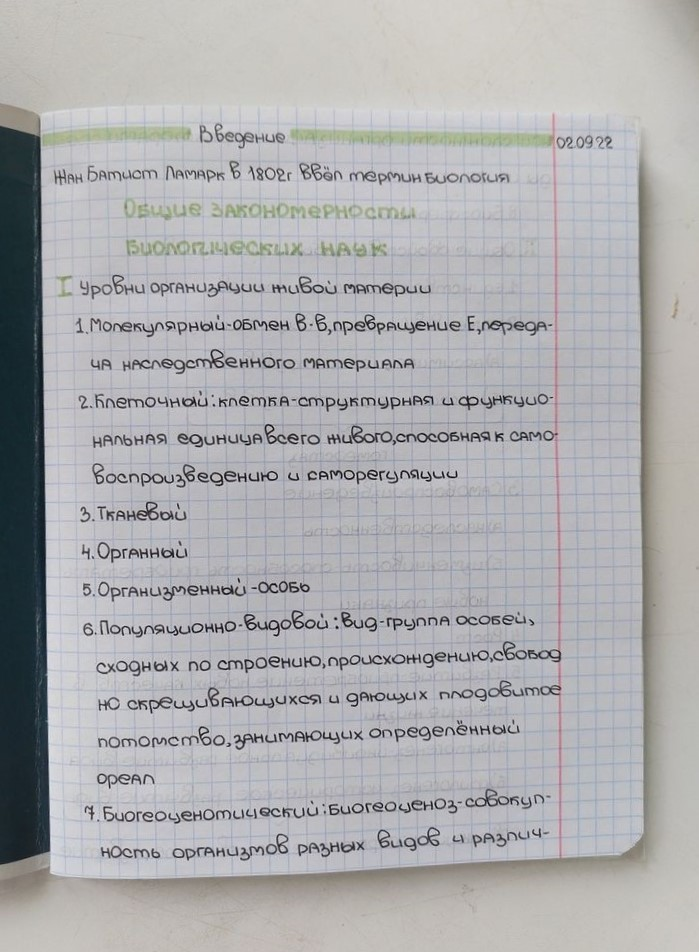page: (48, 112, 636, 850)
